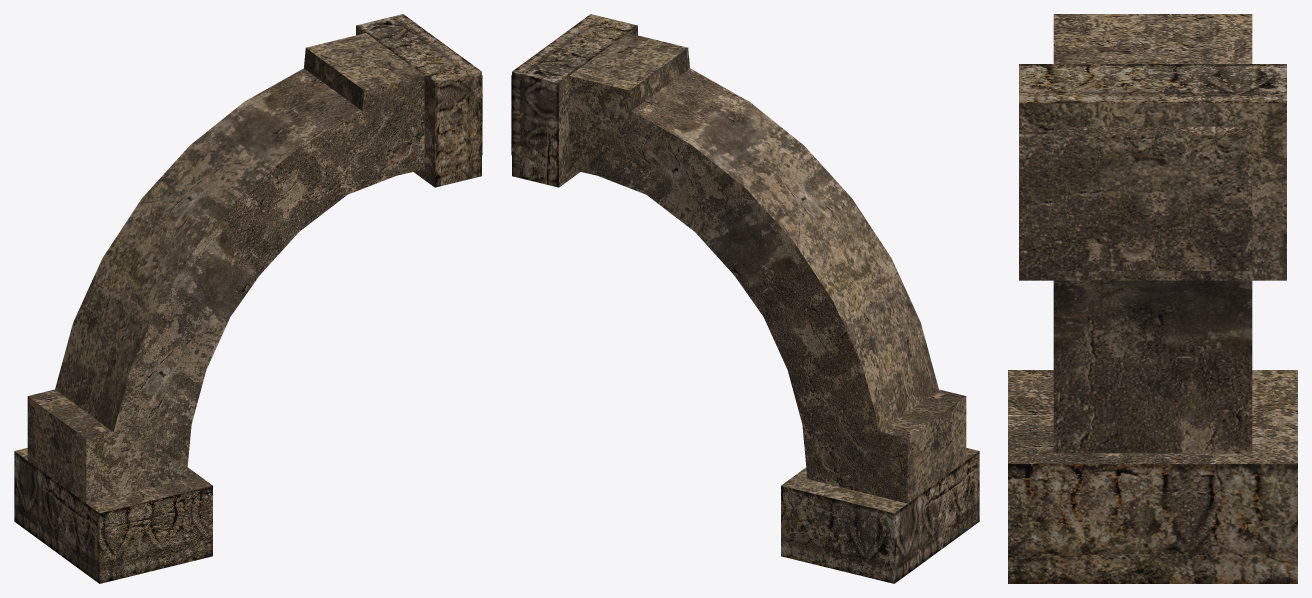
The model's file is materials_5_arch_5.fbx.
The picture shows the model from 3 angles, left to right: view 1: azimuth 30°, elevation 25°; view 2: azimuth 150°, elevation 25°; view 3: azimuth 270°, elevation 25°; orthographic projection. The views are drawn at different scales.
Parts seen in each view (by area): view 1: materials_5_arch_5; view 2: materials_5_arch_5; view 3: materials_5_arch_5.
Part boxes in pixels (<box>): materials_5_arch_5: <box>14,14,482,583</box>; materials_5_arch_5: <box>511,14,979,583</box>; materials_5_arch_5: <box>1008,14,1297,583</box>.
Bounding box in the file's own units: 103 × 103 × 38.22.
